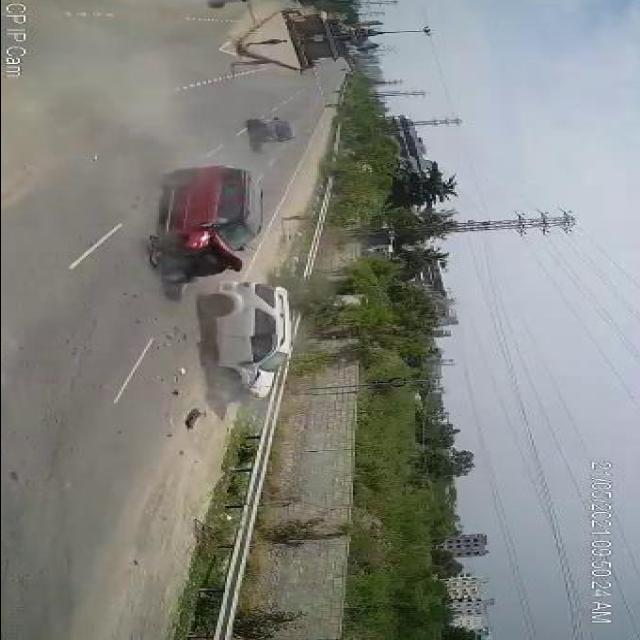accident: (141, 160, 303, 409)
